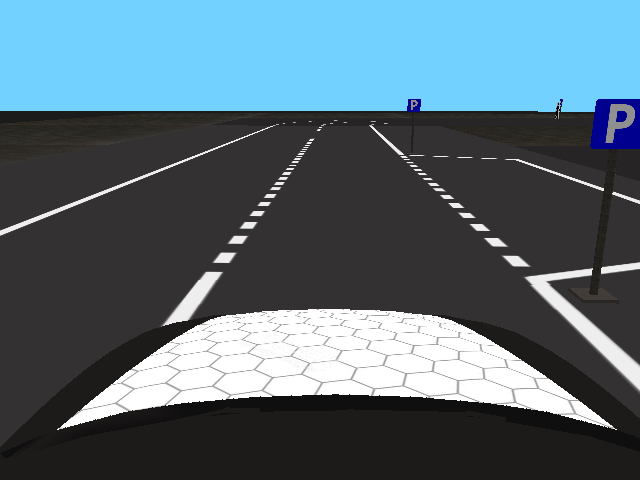parking: (591, 99, 640, 148), (406, 98, 422, 114)
